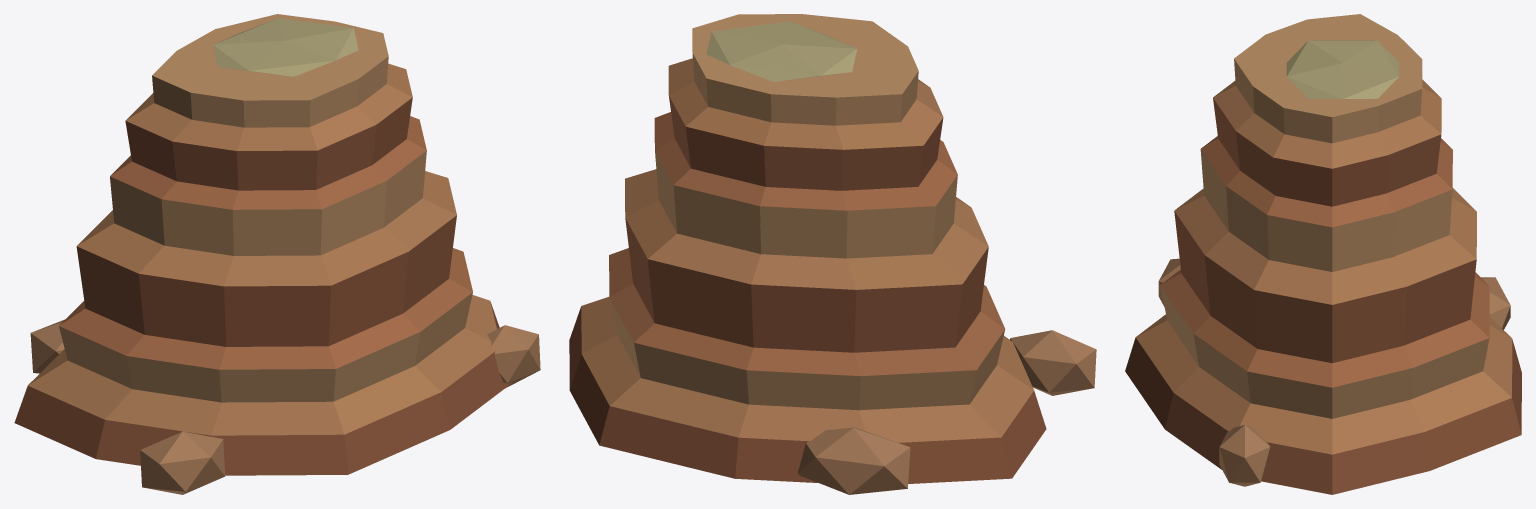
Rendered from nature-mesa.glb.
3 renders of one model, left to right at view 1: azimuth 30°, elevation 25°; view 2: azimuth 150°, elevation 25°; view 3: azimuth 270°, elevation 25°, orthographic. The views are drawn at different scales.
Visible parts, largest first — view 1: SculptedModel; view 2: SculptedModel; view 3: SculptedModel.
Part boxes in pixels (x1=…): SculptedModel: x1=14, y1=14, x2=540, y2=494; SculptedModel: x1=569, y1=14, x2=1096, y2=494; SculptedModel: x1=1125, y1=14, x2=1521, y2=494.
Size of the model in its own units: 2.36 by 1.74 by 1.82.
